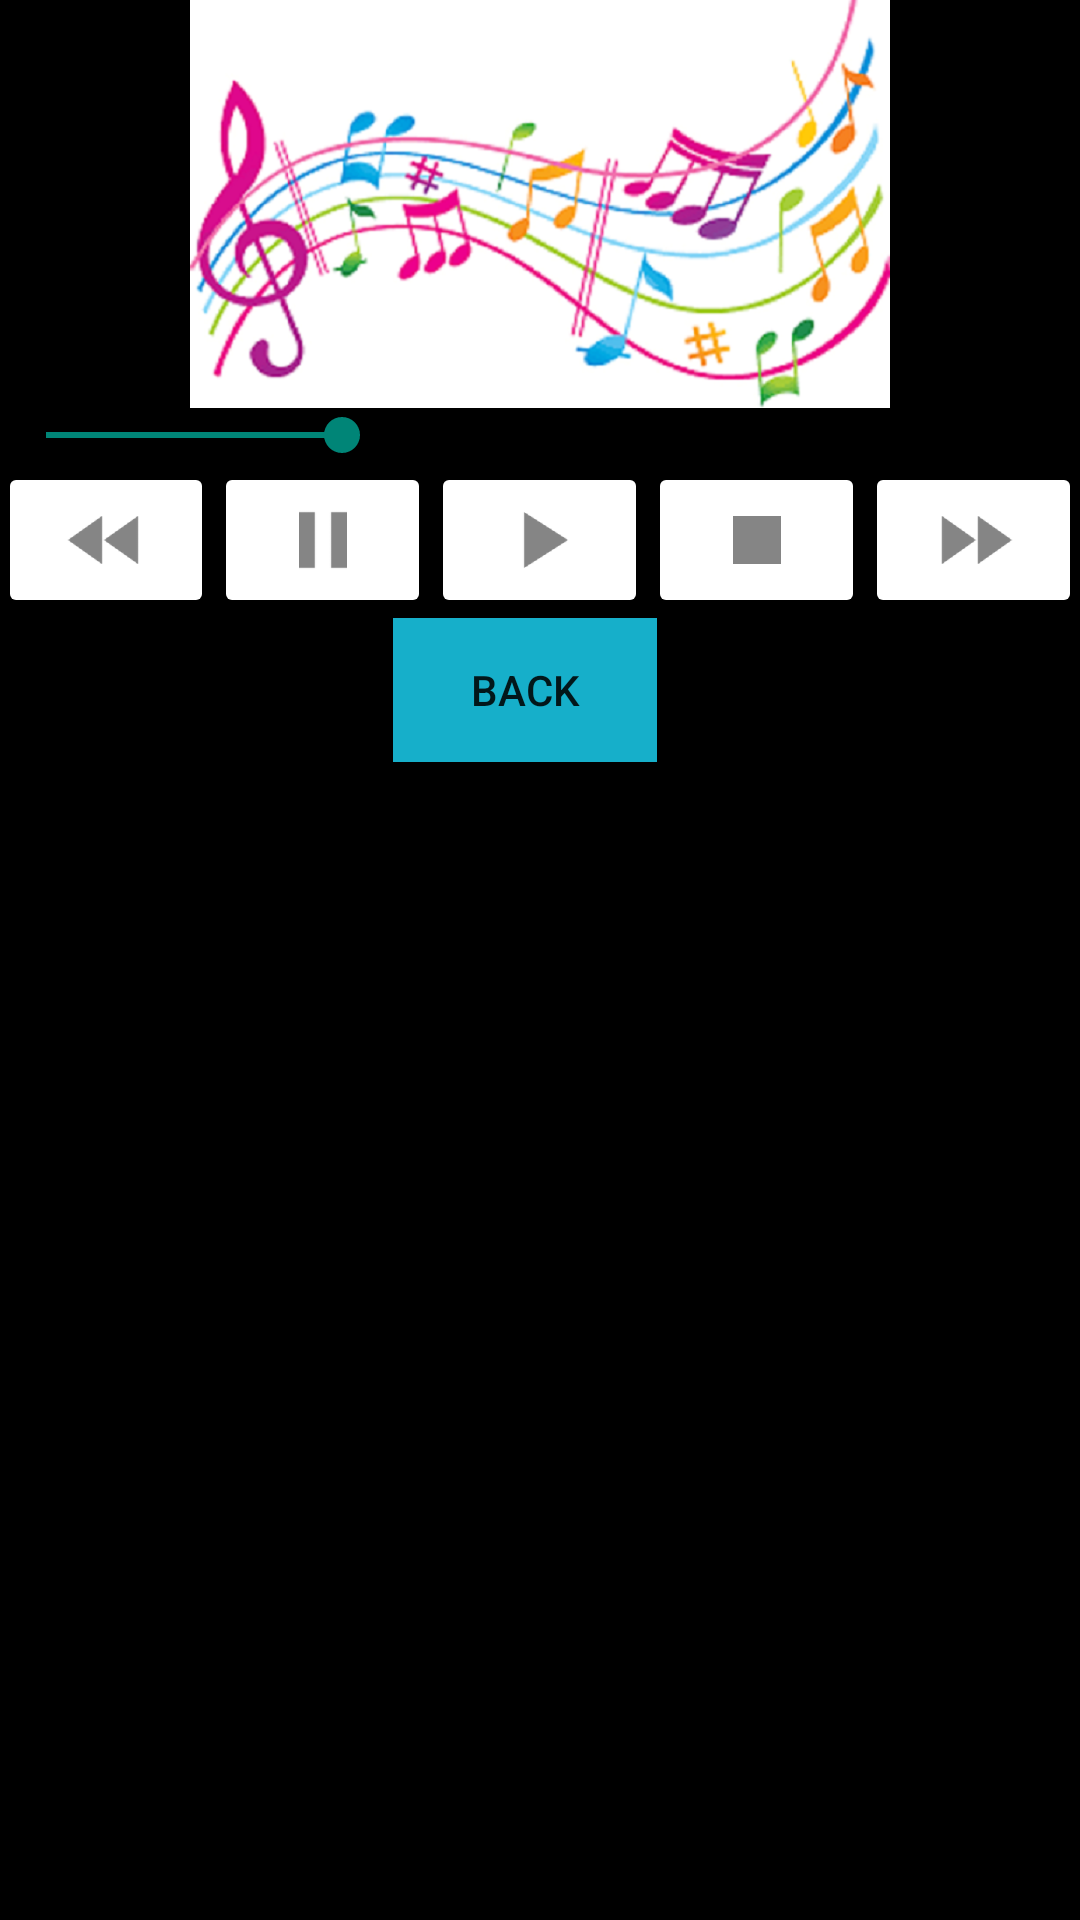

Screen size 1080 × 1920. Icon name, then its center in pixels as point (x, y):
next: point (973, 540)
pause: point (322, 540)
play: point (539, 540)
previous: point (106, 540)
stop: point (756, 540)
